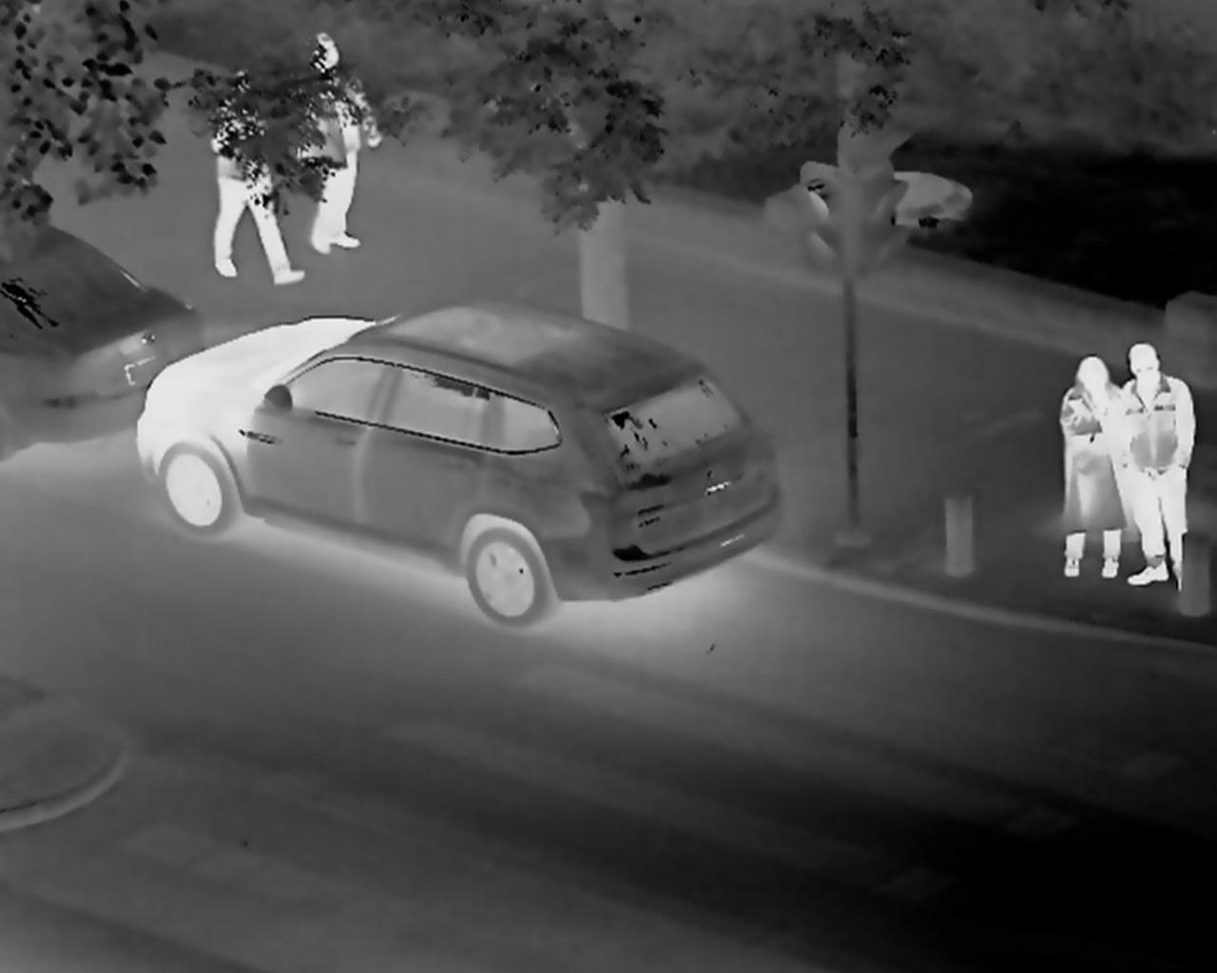person: (1120, 344, 1217, 616), (1030, 345, 1120, 581), (291, 49, 400, 243), (186, 74, 285, 269)
